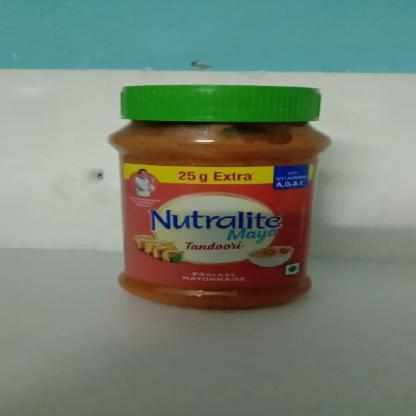Nutralite TANDOORI MAYO 300g-275g-25g-: (104, 84, 330, 311)
